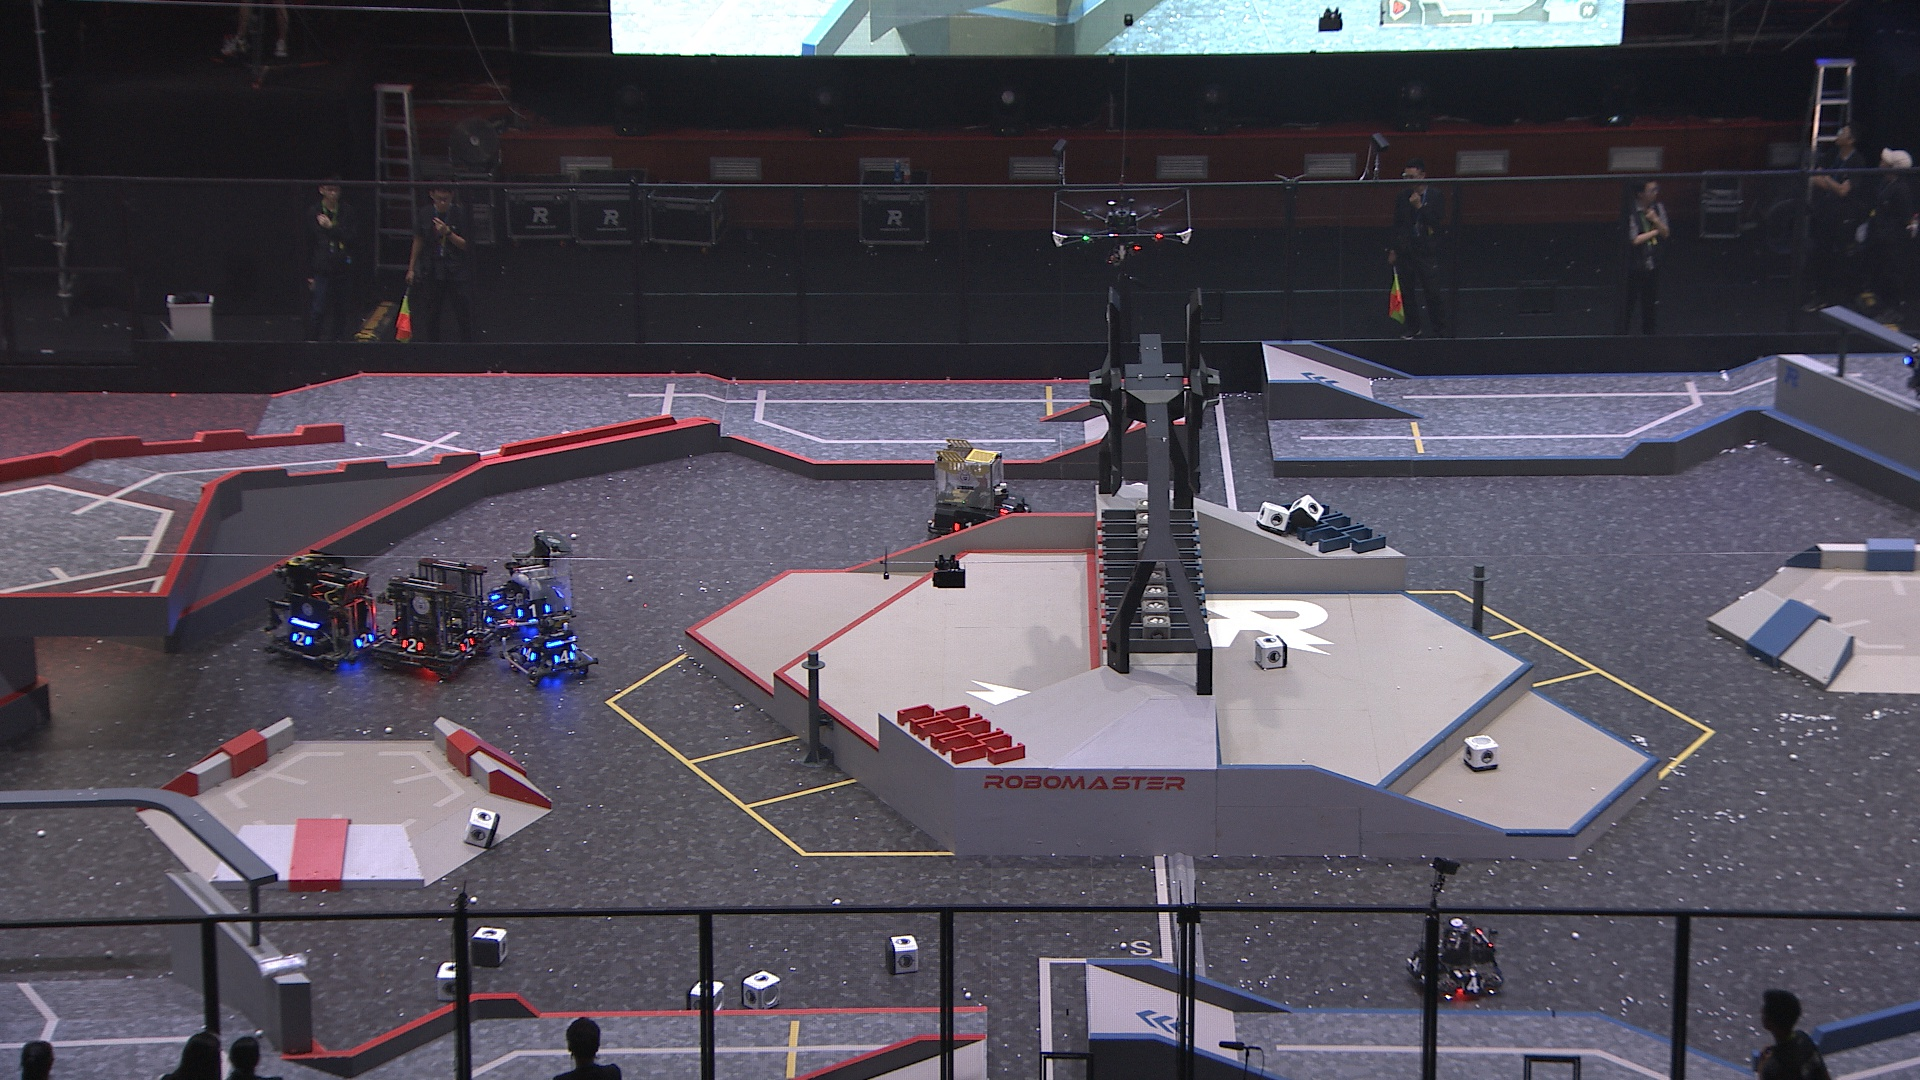armor: (516, 599, 553, 621), (487, 589, 508, 613), (400, 637, 429, 654), (1461, 975, 1486, 994), (550, 647, 576, 666), (994, 495, 1015, 516), (353, 629, 375, 650), (290, 628, 313, 647), (520, 642, 539, 665), (458, 633, 476, 655), (475, 607, 495, 626), (1408, 953, 1424, 977), (1902, 352, 1920, 371), (949, 520, 975, 531)
car: (371, 555, 502, 680), (264, 549, 384, 671), (472, 527, 582, 647), (920, 438, 1029, 553), (1399, 916, 1513, 1007), (498, 600, 597, 684)
watcher: (1896, 320, 1920, 398)
